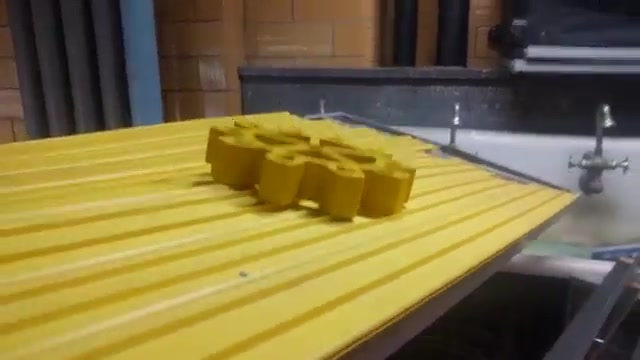gear: (201, 107, 421, 230)
